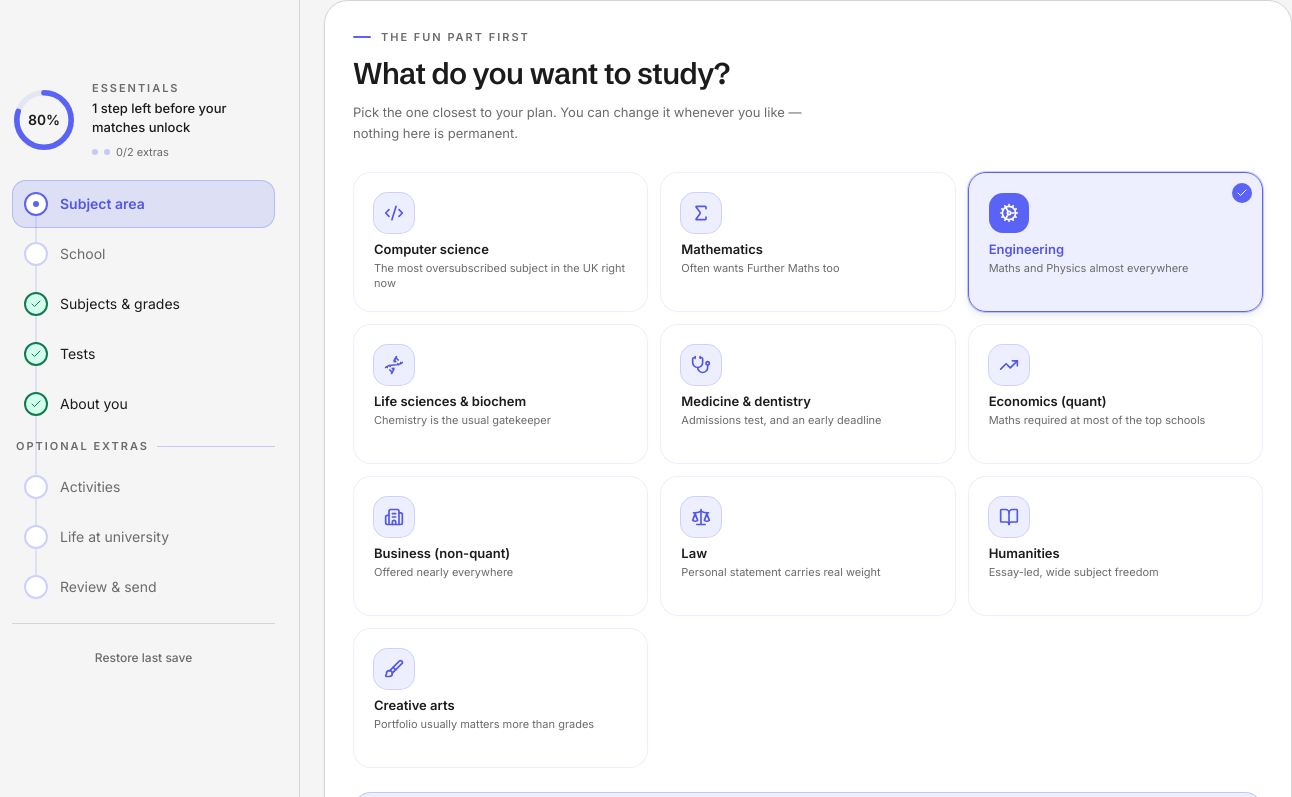
Test: Skip for now — where it is offered › withholds the offer when only ONE essential step is short
The image size is (1292, 797).
Step 1. Click the button "Activities" → (90, 486), box [12,462,275,510]
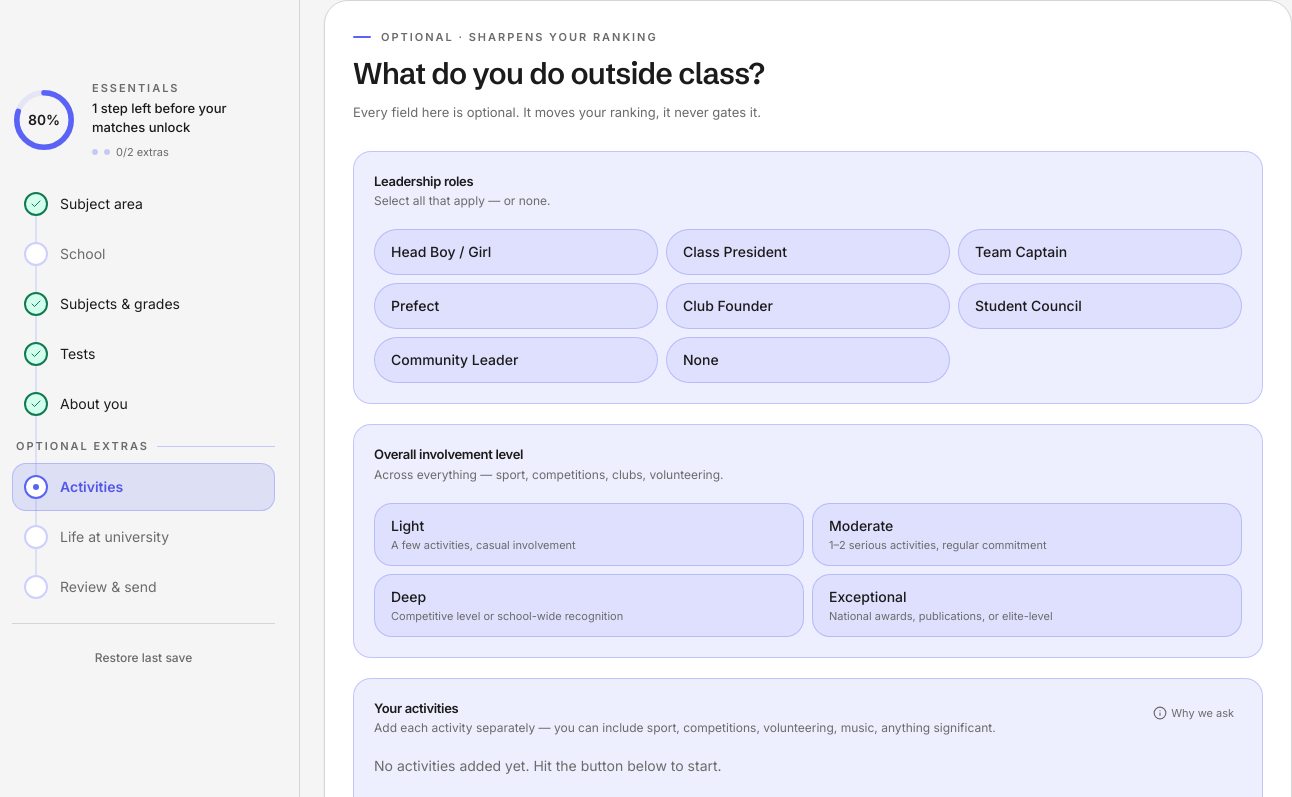
expect the heading "What do you do outside class?" is shown: met, box [353,54,764,92]
expect the heading "Leadership roles" is shown: met, box [374,173,473,189]
